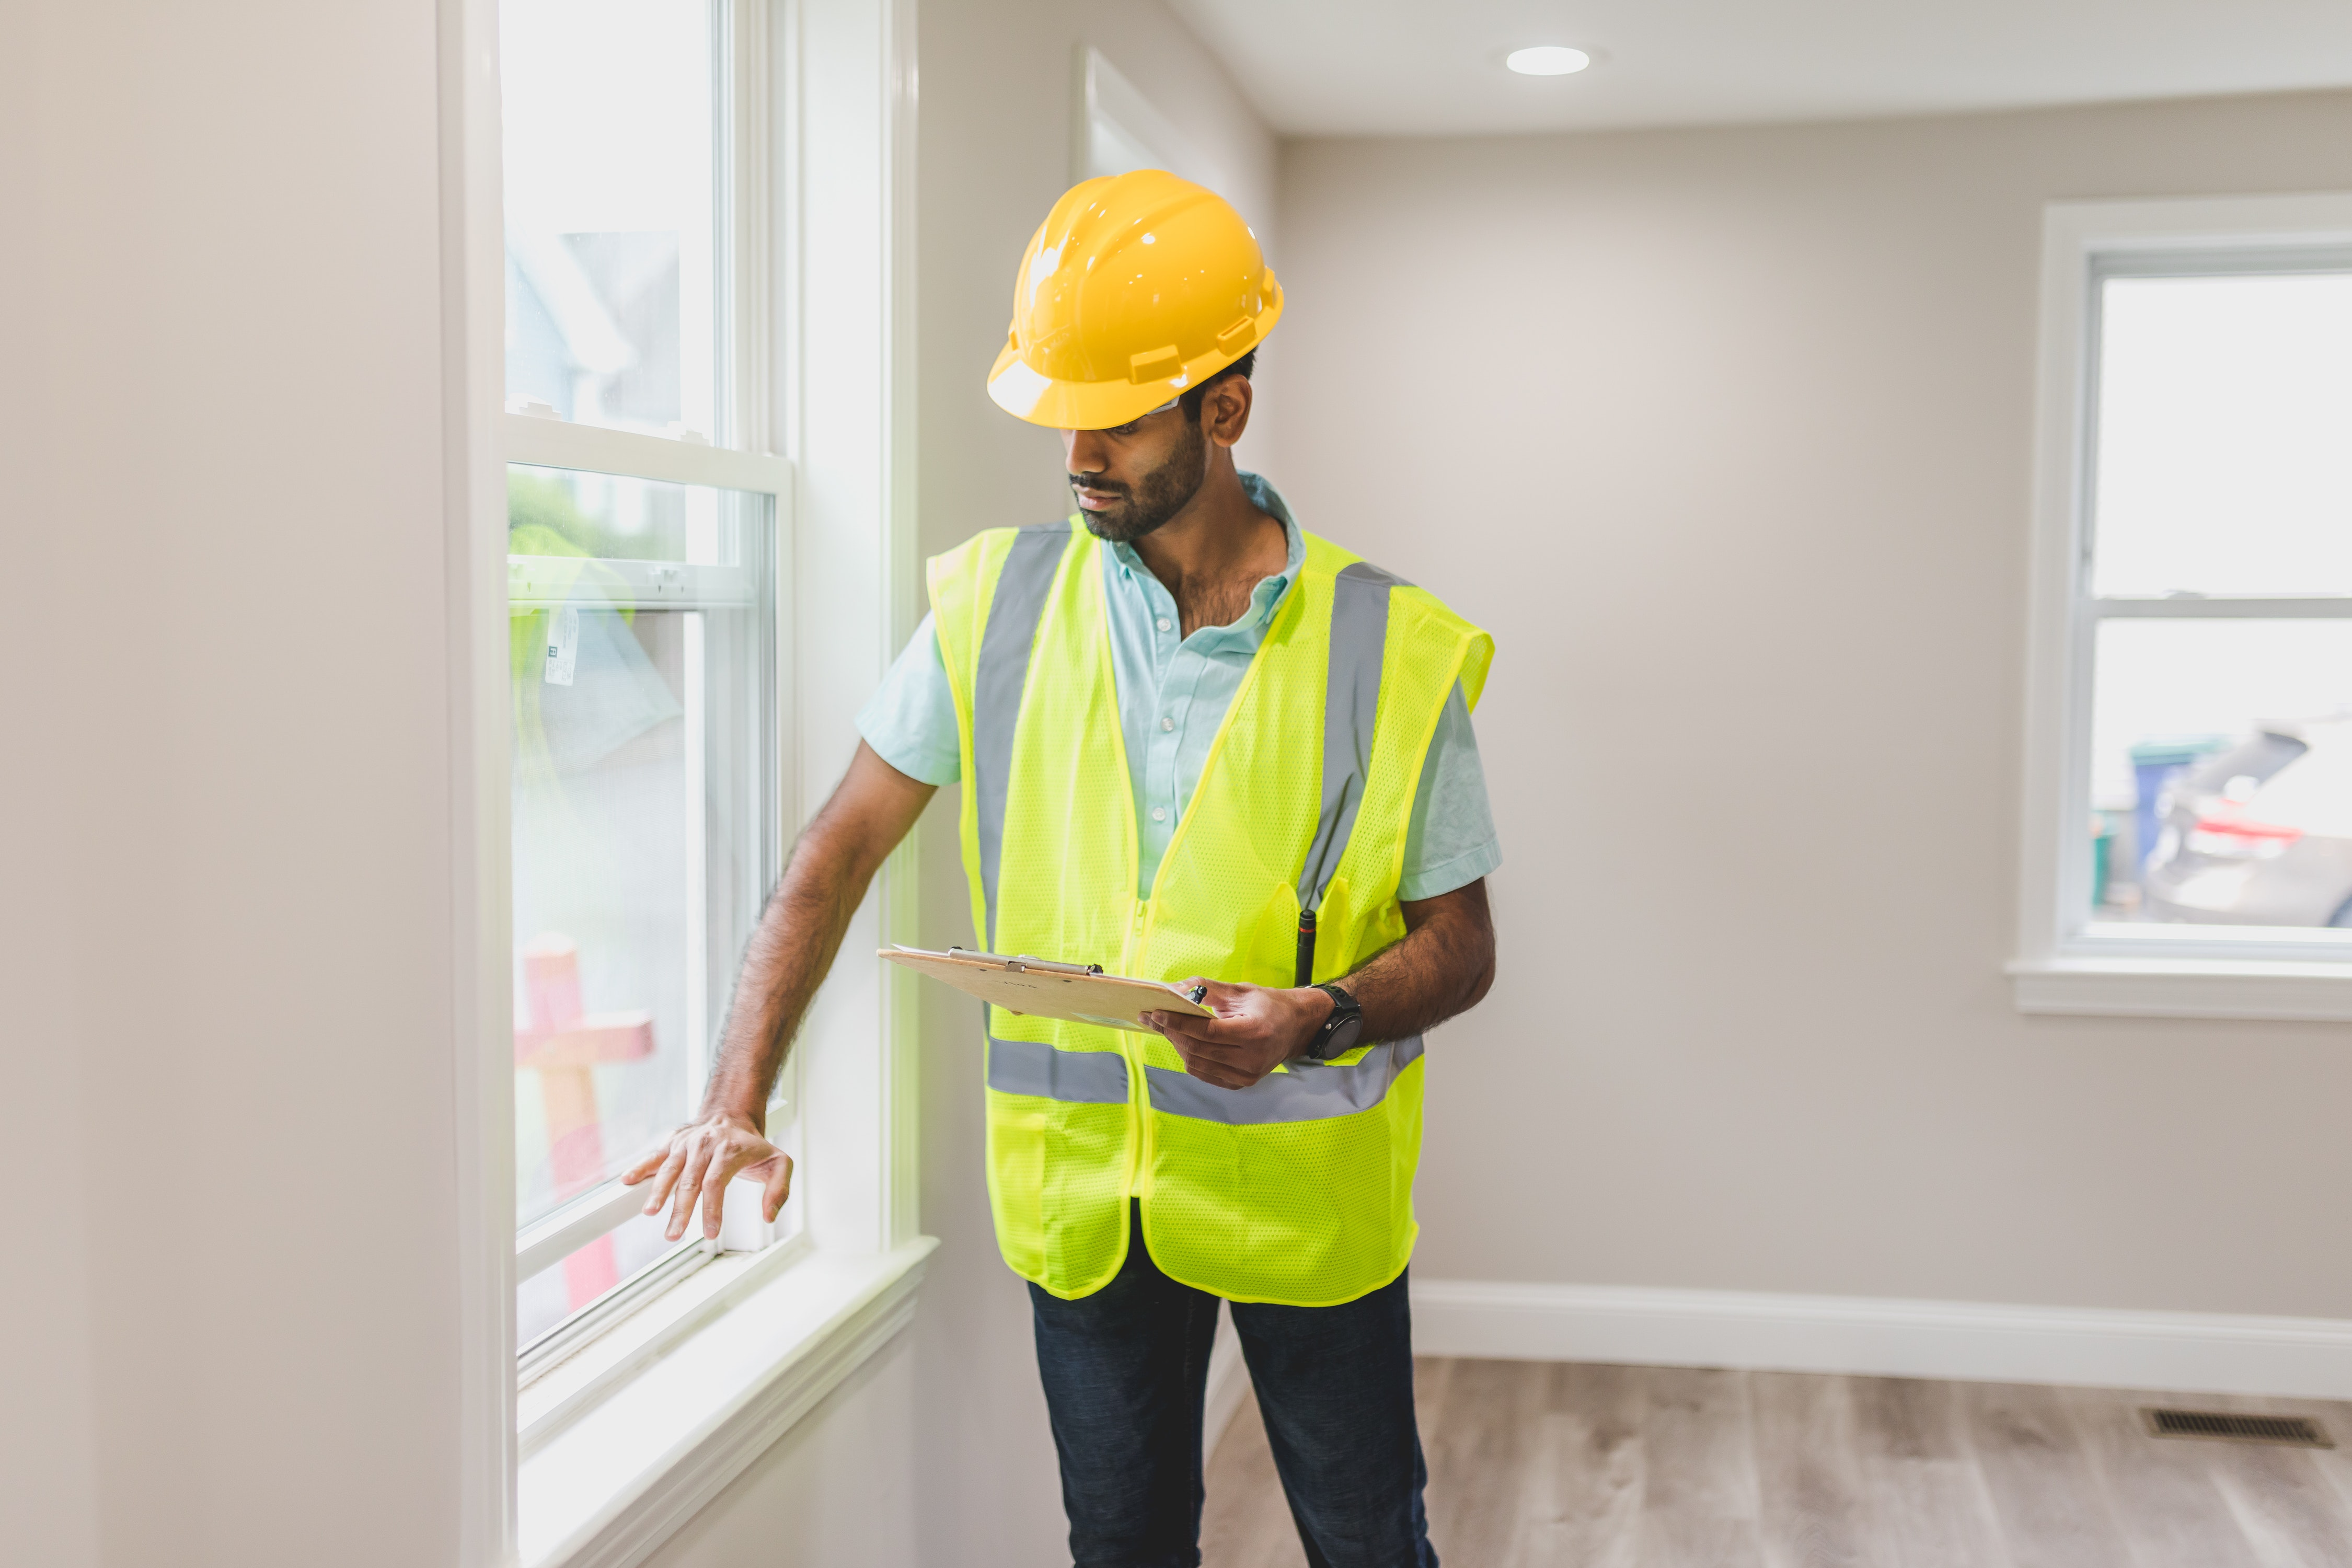Helmet: (966, 143, 1340, 600)
Reflective vest: (922, 507, 1510, 1314)
